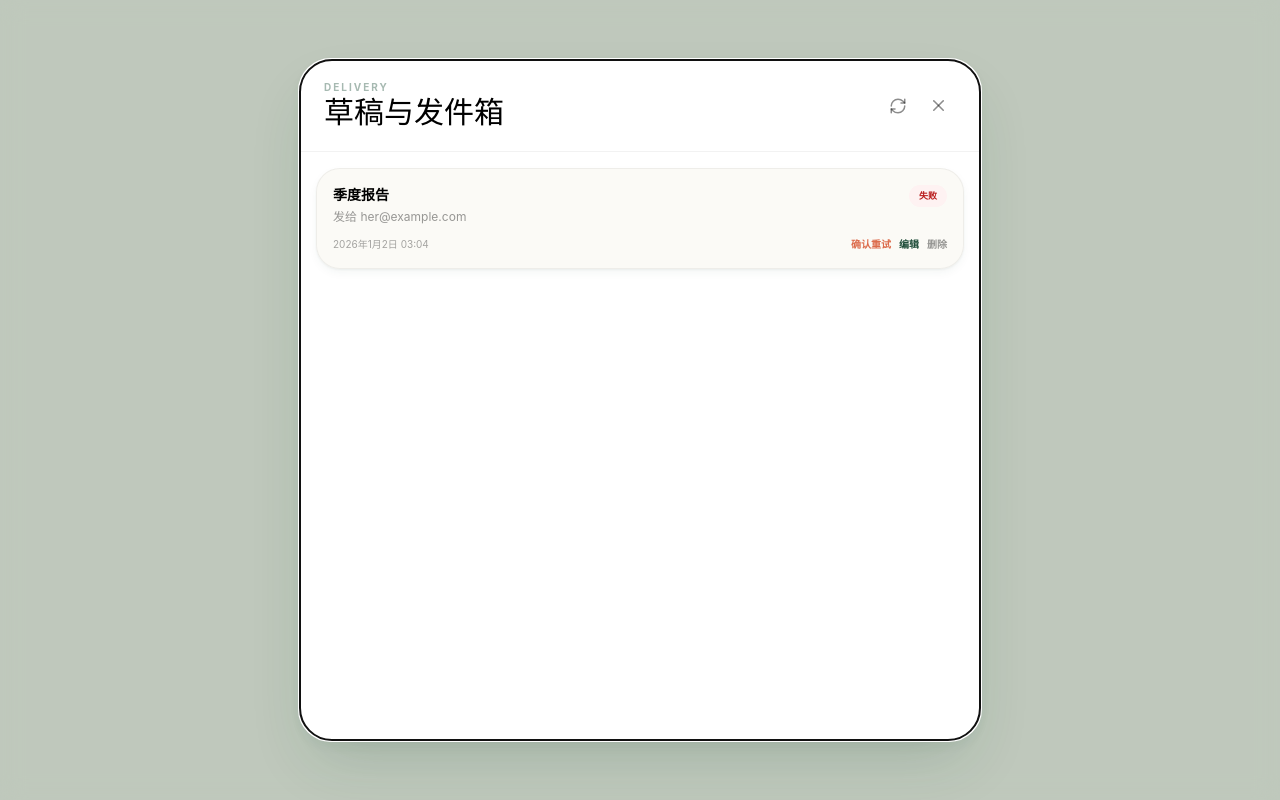
Test: outbox dialog › retries once and reloads so the new status replaces the old one
Click the button "确认重试" at (871, 244), box [851, 237, 891, 252]
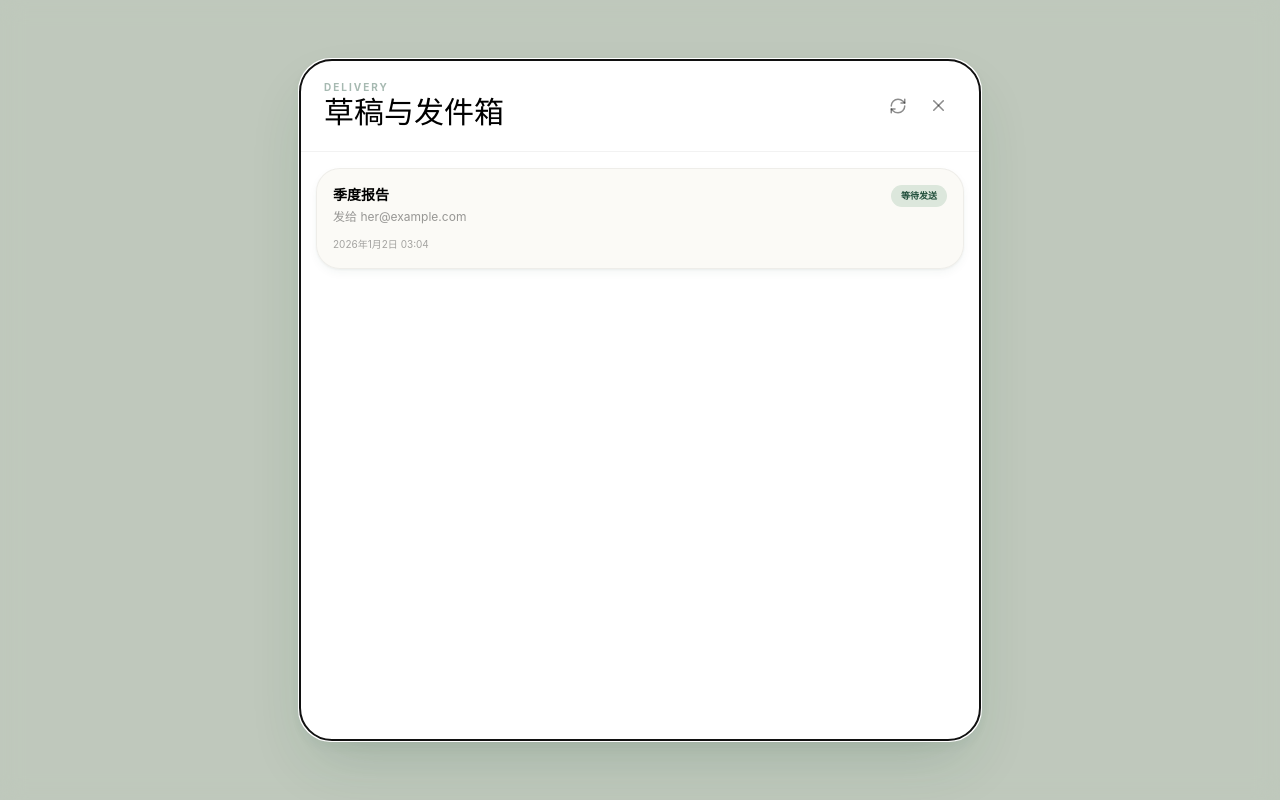
Check: the text "等待发送" is shown, box [891, 185, 947, 206]
Check: the button "确认重试" is gone
